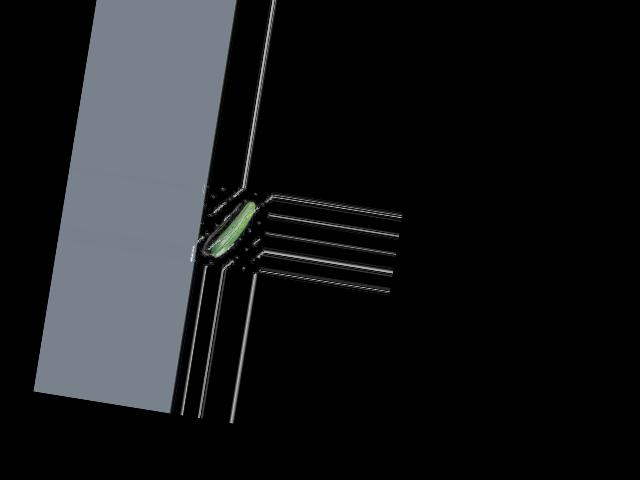cucumber: (209, 195, 256, 261)
